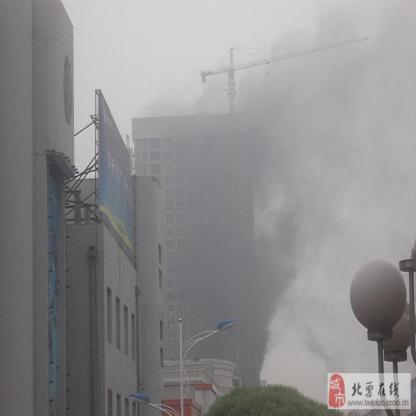smoke: (158, 101, 299, 380)
